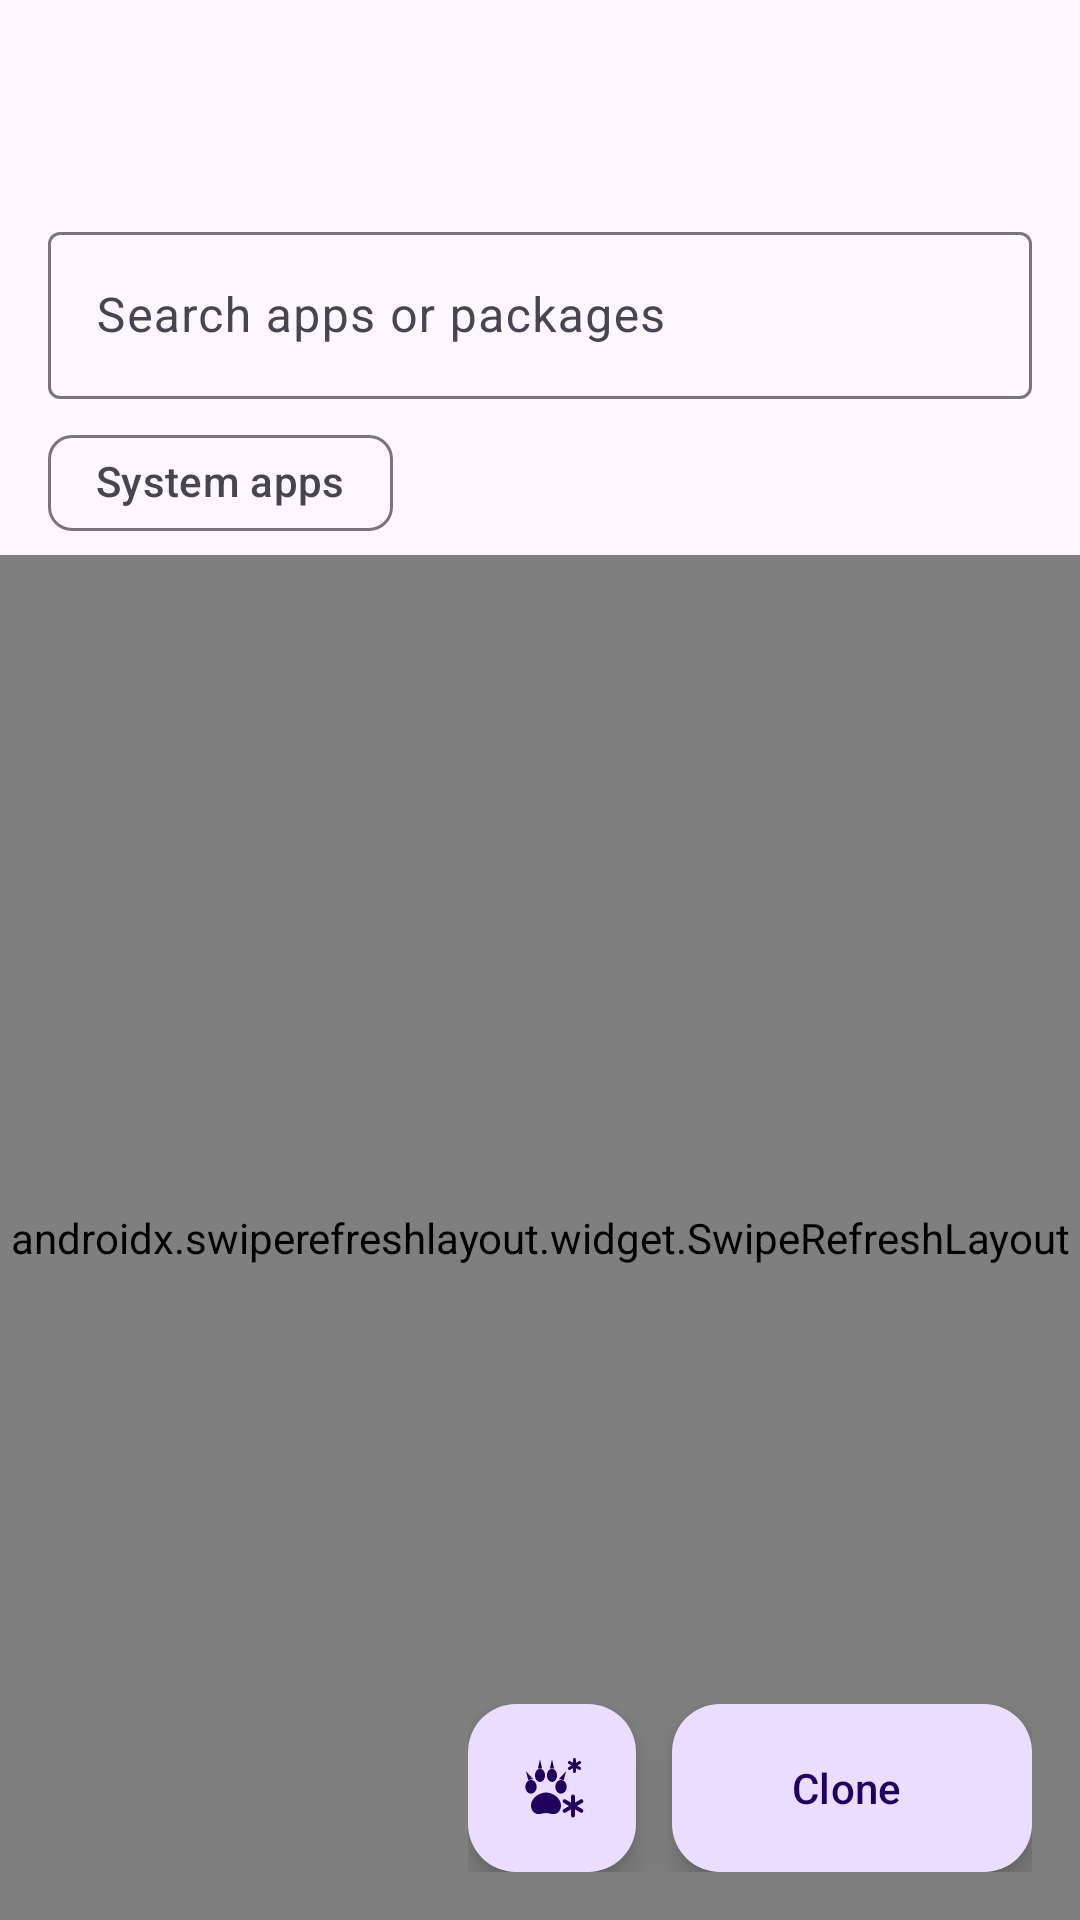

Where icons sit on this 1080 × 1920 app screen, as [x1, y1, x2, y2]:
Freeze apps: [468, 1704, 636, 1872]
